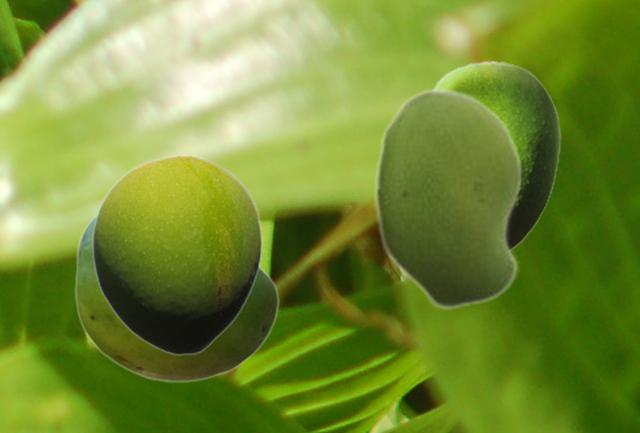green_mango: (91, 154, 262, 355), (74, 214, 278, 382), (374, 87, 522, 310), (430, 60, 560, 250)
